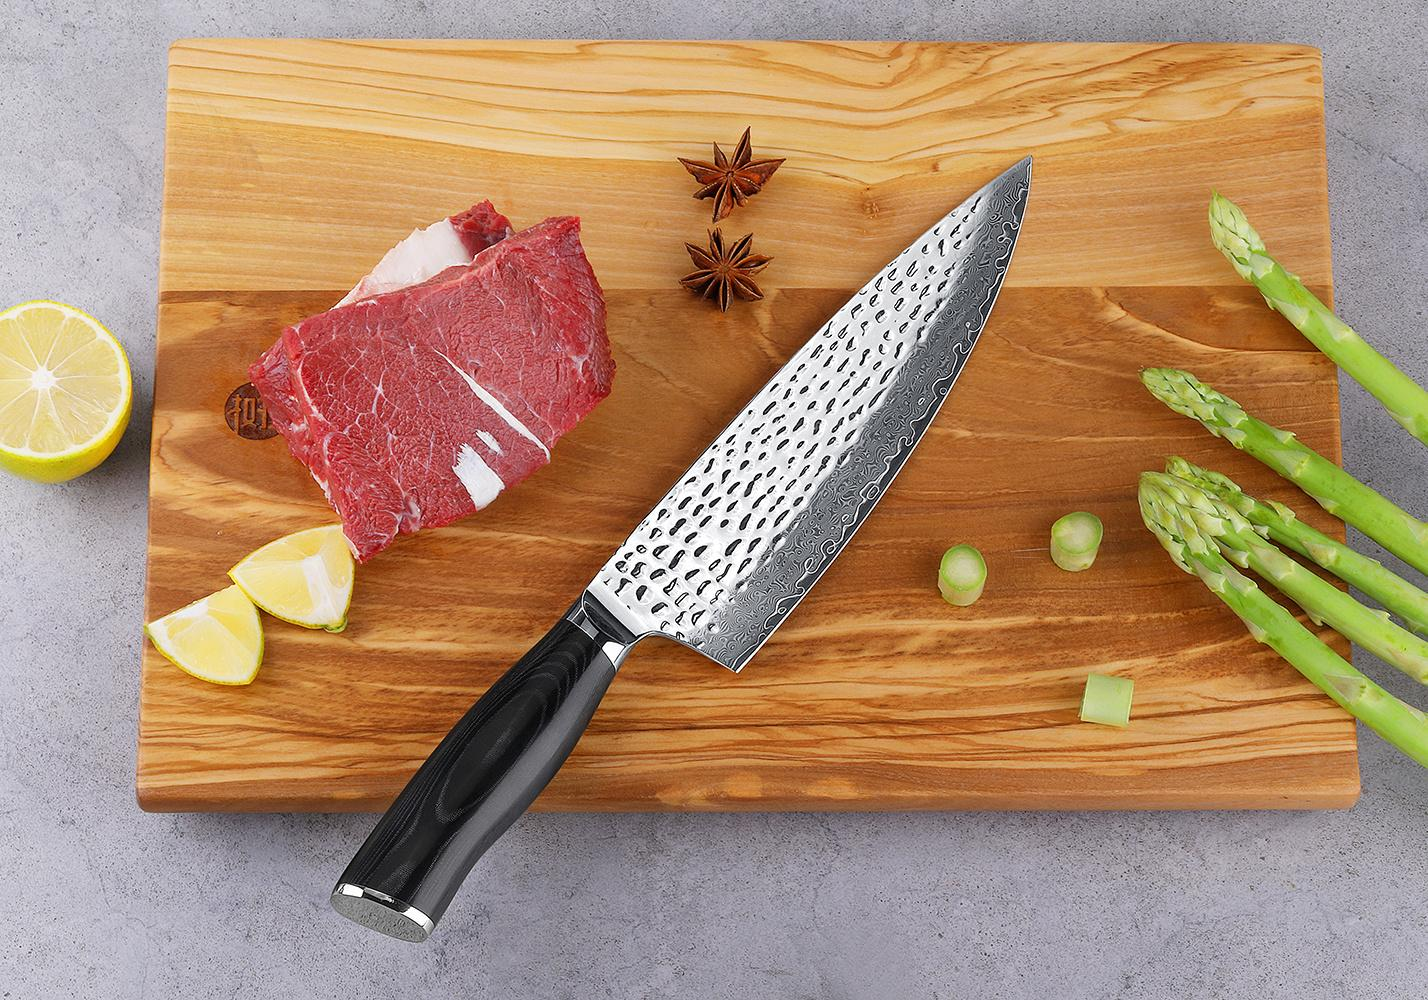knife: (315, 111, 1104, 975)
